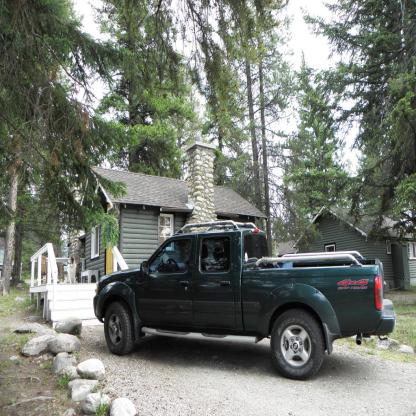Truck: (93, 220, 395, 380)
